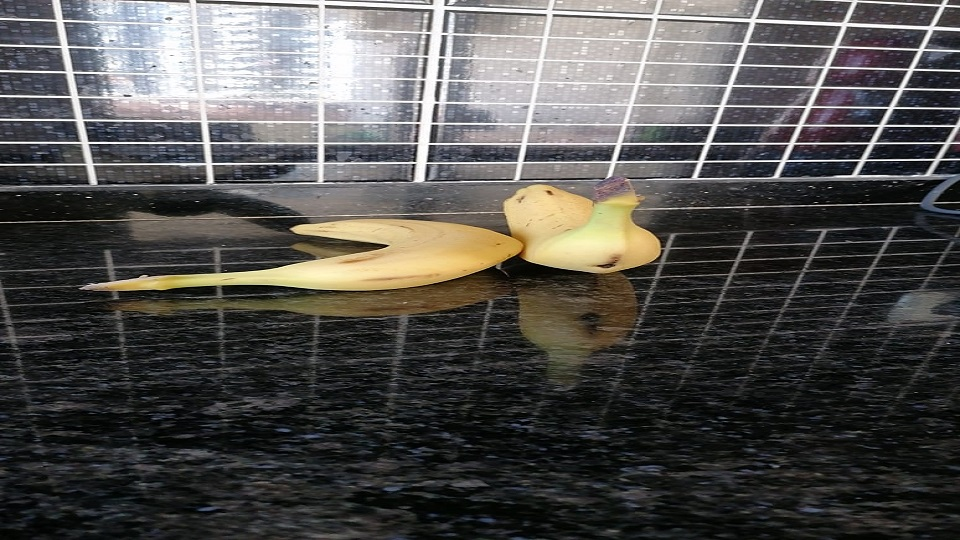muz: (88, 215, 526, 295), (501, 178, 663, 277)
